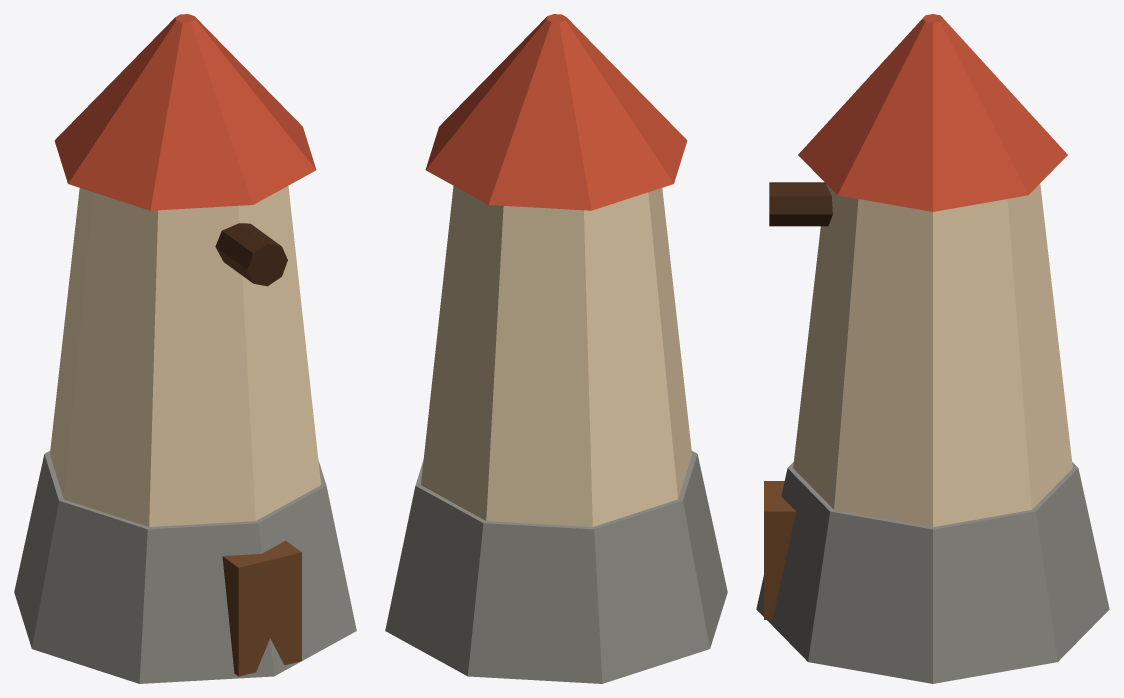
Rendered from windmill_base.glb.
3 views of the same model, side by side, from view 1: azimuth 30°, elevation 25°; view 2: azimuth 150°, elevation 25°; view 3: azimuth 270°, elevation 25° (orthographic).
Parts seen in each view (by area): view 1: tower_plaster, base_stone, cap_roof, door, hub; view 2: tower_plaster, base_stone, cap_roof; view 3: tower_plaster, base_stone, cap_roof, door, hub.
Boxes of the visible parts, x1,y1,x2,y2 form: tower_plaster: (50, 186, 320, 526); base_stone: (14, 451, 356, 683); cap_roof: (54, 14, 316, 210); door: (222, 540, 301, 676); hub: (215, 223, 287, 286); tower_plaster: (421, 186, 691, 526); base_stone: (385, 451, 727, 683); cap_roof: (425, 14, 687, 210); tower_plaster: (793, 183, 1072, 526); base_stone: (756, 462, 1109, 683); cap_roof: (798, 14, 1067, 211); door: (764, 481, 796, 619); hub: (769, 182, 832, 226).
Size of the model in its own units: 1.36 by 2.51 by 1.36.
